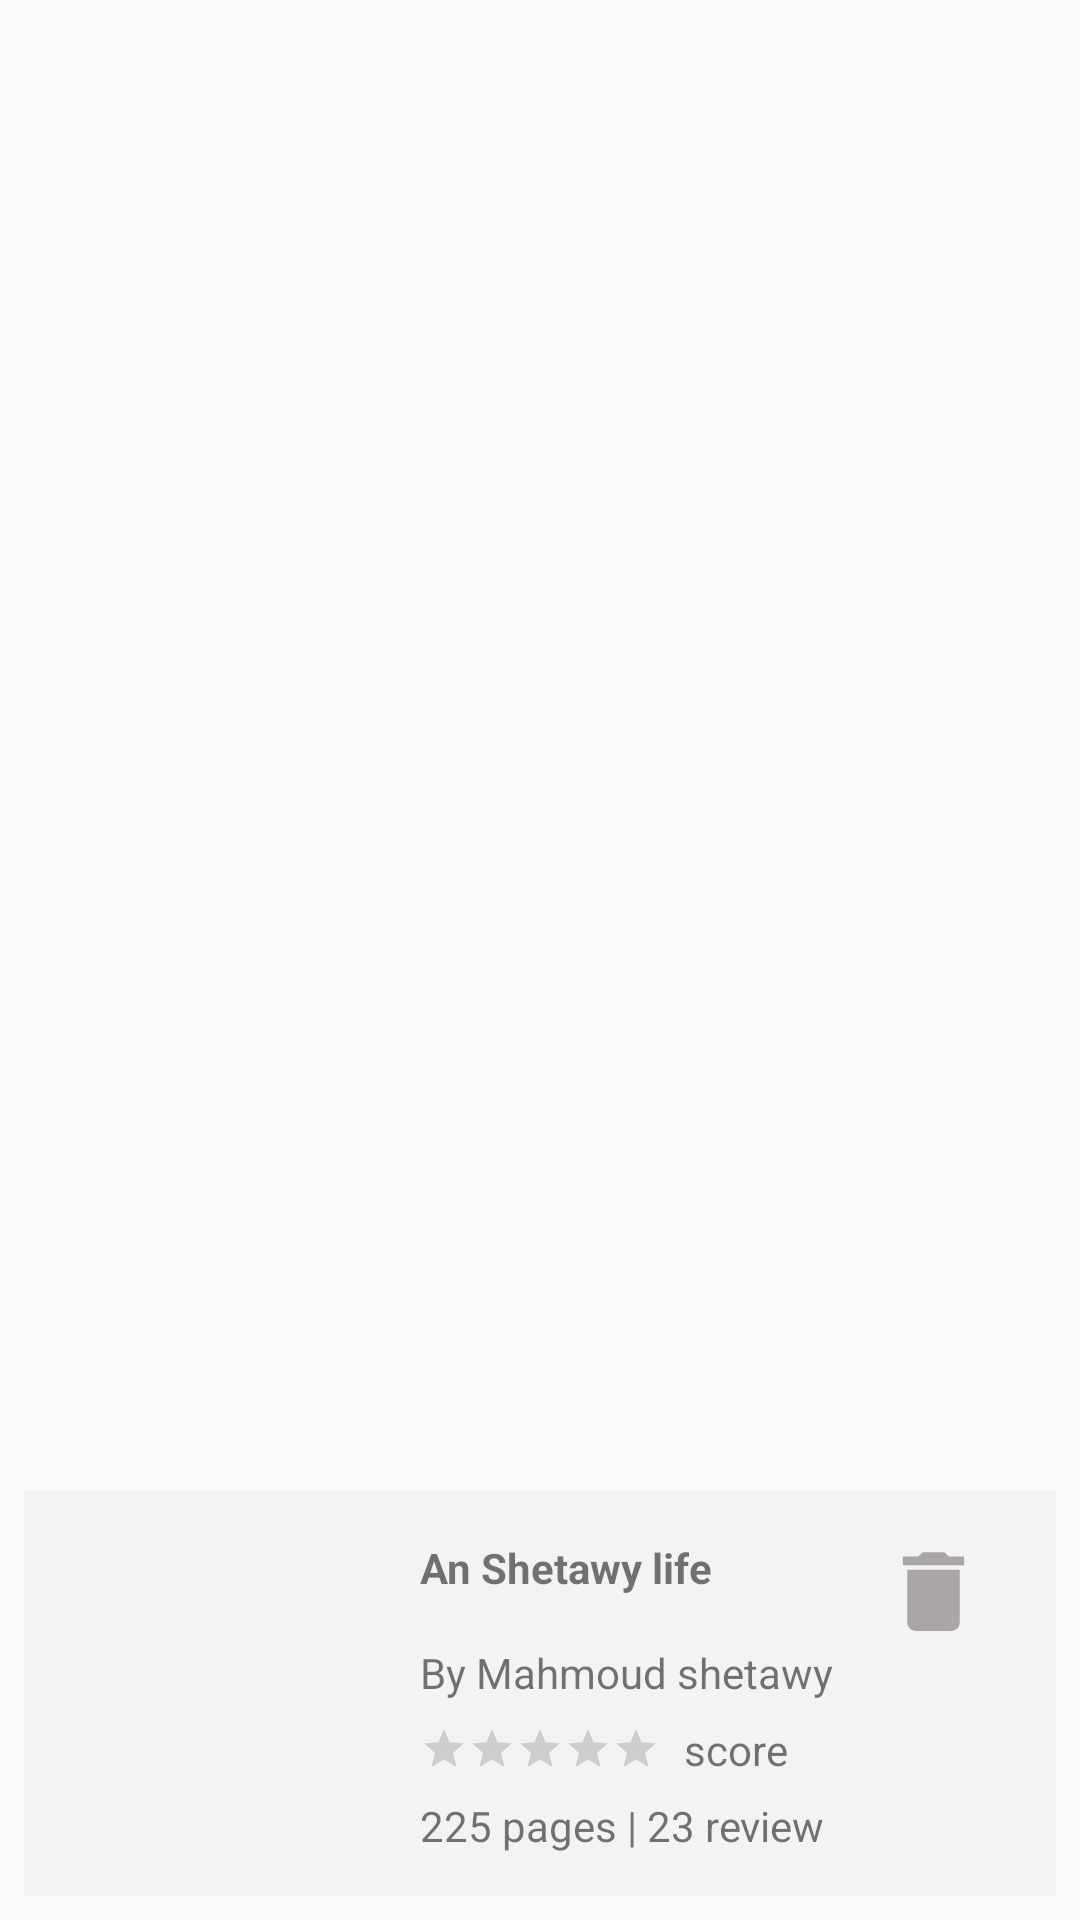

Point at icon controls on the screen. Image size 1080px×1920px, points as point (x, y).
delete vec: point (933, 1591)
